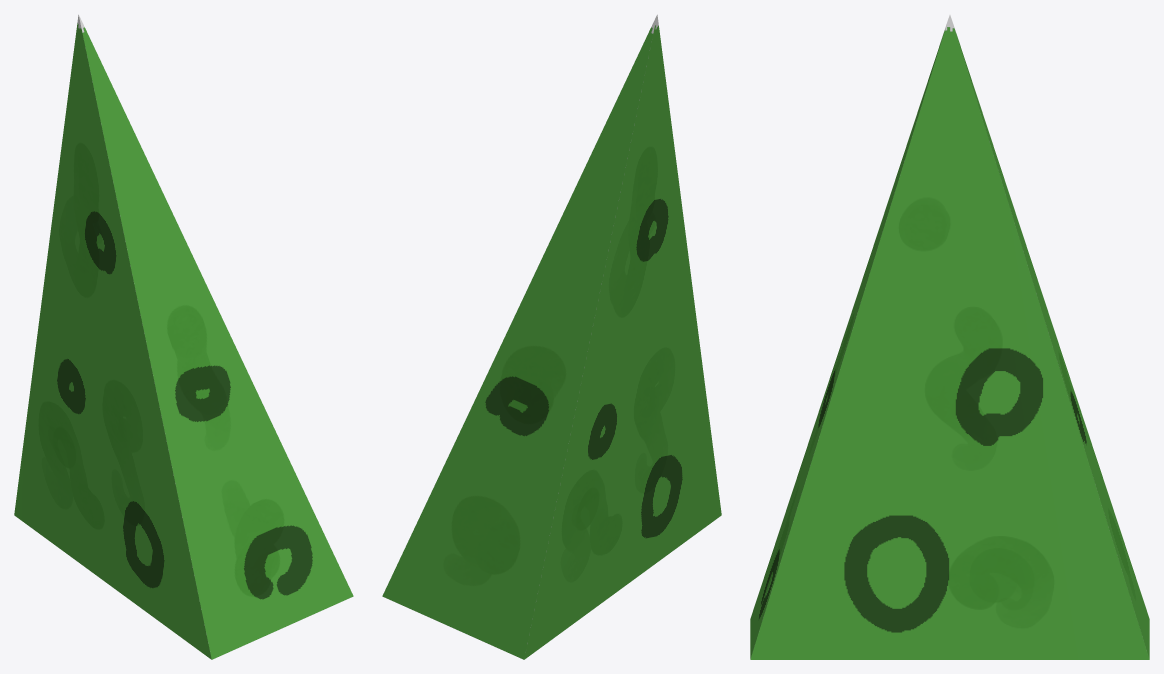
File: clone_leftArm.obj
3 views of the same model, side by side, from view 1: azimuth 30°, elevation 25°; view 2: azimuth 150°, elevation 25°; view 3: azimuth 270°, elevation 25° (orthographic).
Visible parts, largest first — view 1: leftArm; view 2: leftArm; view 3: leftArm.
Part boxes in pixels (box(x1,y1,x2,y2)): leftArm: box(14, 14, 353, 659); leftArm: box(382, 14, 721, 659); leftArm: box(750, 15, 1149, 659).
Bounding box in the file's own units: 0.1062 × 0.3349 × 0.2061.
1 material, 1 textured.
